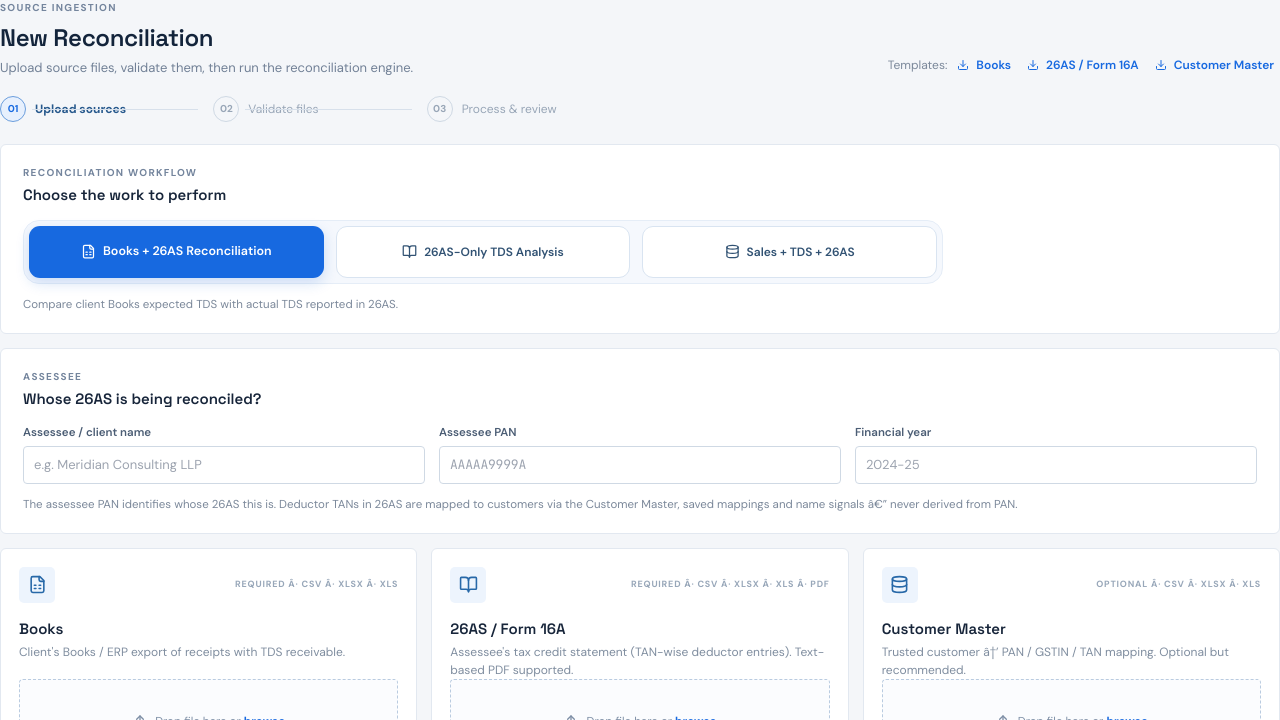
Test: New Reconciliation user flow › switches upload cards without retaining legacy workflow slots
Click the radio button labelled "26AS-Only TDS Analysis". click: x=483, y=252
box: x1=336 y1=226 x2=630 y2=278
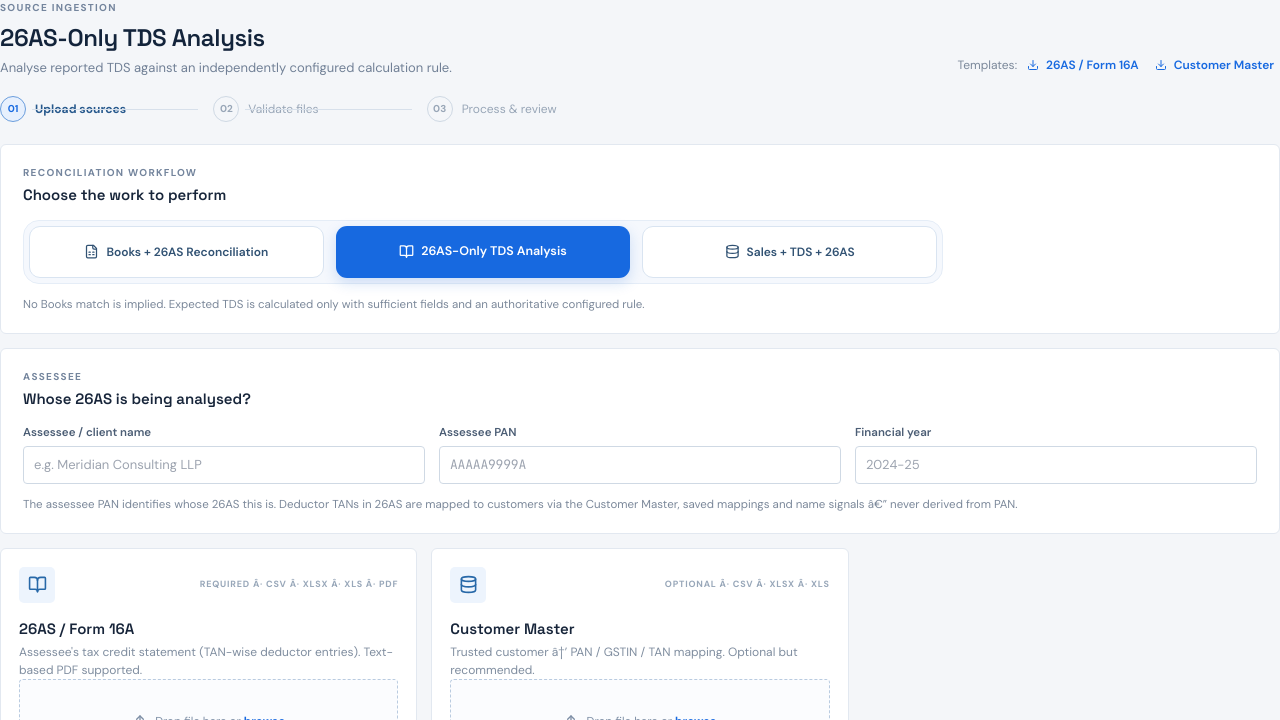
Click the radio button labelled "Sales + TDS + 26AS". click: x=790, y=252
box: x1=642 y1=226 x2=937 y2=278
(page scrolled)
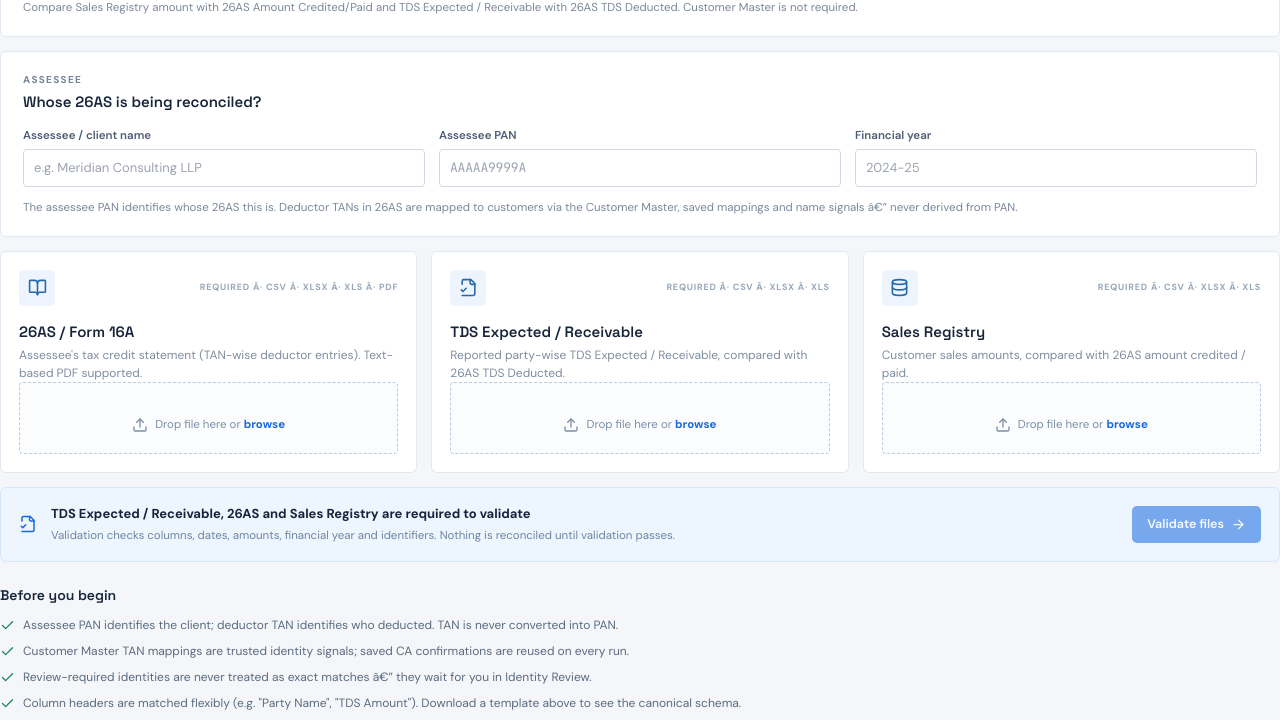
Expected: the element with test id "tds_receivable-upload-card" is shown, x1=431 y1=251 x2=849 y2=473
Expected: the element with test id "sales_registry-upload-card" is shown, x1=863 y1=251 x2=1279 y2=473
Expected: the text "Customer Master is not required" is shown, x1=23 y1=0 x2=858 y2=14
